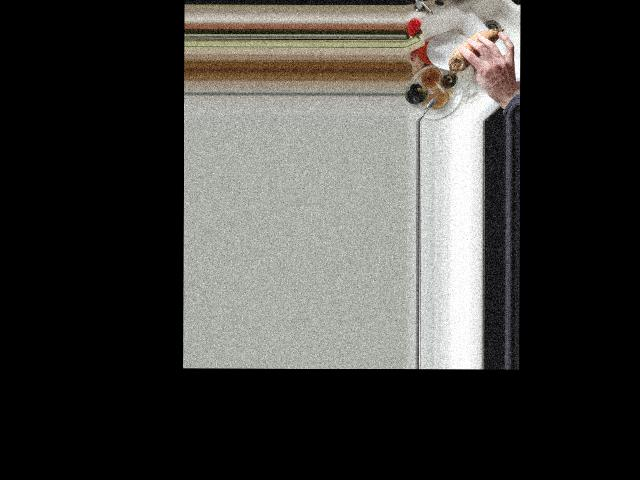sweet_potato: (450, 28, 505, 72)
